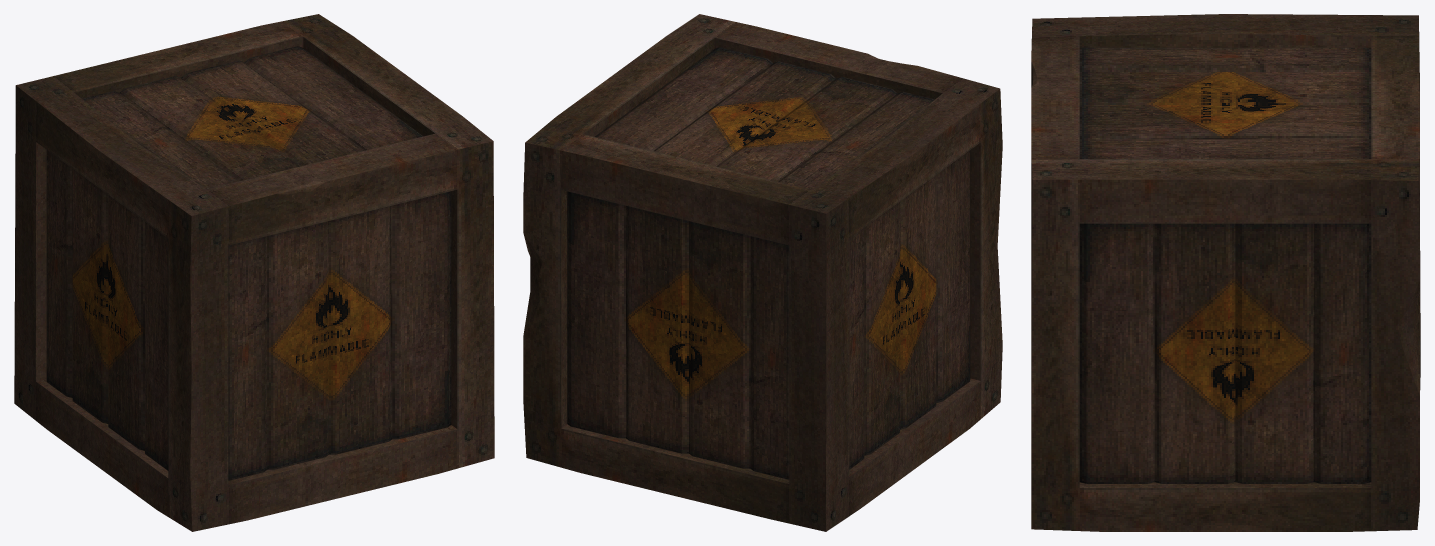
Rendered from wooden_crate_4.glb.
3 renders of one model, left to right at view 1: azimuth 30°, elevation 25°; view 2: azimuth 150°, elevation 25°; view 3: azimuth 270°, elevation 25°, orthographic. The views are drawn at different scales.
Visible parts, largest first — view 1: wooden_crate_4; view 2: wooden_crate_4; view 3: wooden_crate_4.
Part boxes in pixels (x1,y1,x2,y2): wooden_crate_4: (14, 14, 494, 531); wooden_crate_4: (523, 14, 1002, 531); wooden_crate_4: (1031, 14, 1420, 531).
Size of the model in its own units: 1.09 by 1.08 by 1.08.
1 material, 1 textured.
